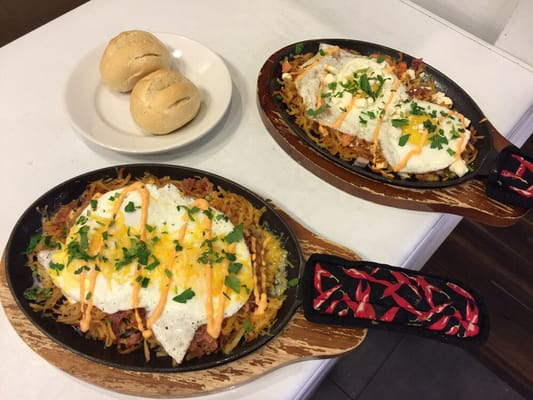curry: (0, 1, 533, 399)
sandwich: (13, 167, 297, 367), (262, 39, 482, 188)
